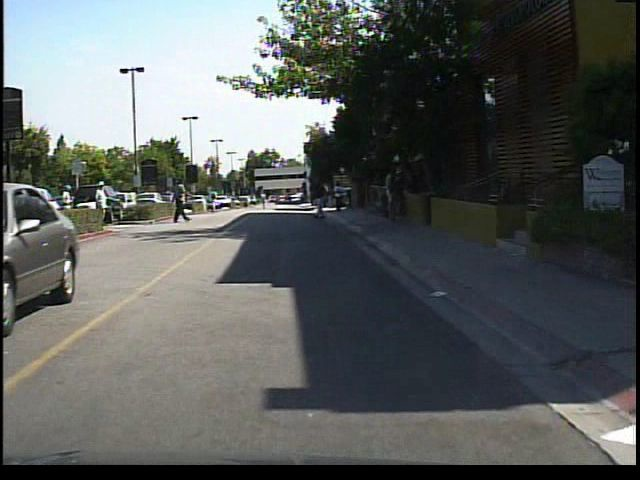person: (382, 158, 407, 228), (310, 167, 336, 222), (169, 173, 194, 226), (92, 176, 115, 226), (398, 166, 418, 221), (59, 180, 79, 232), (332, 176, 348, 216), (208, 186, 224, 215), (258, 188, 273, 212)
